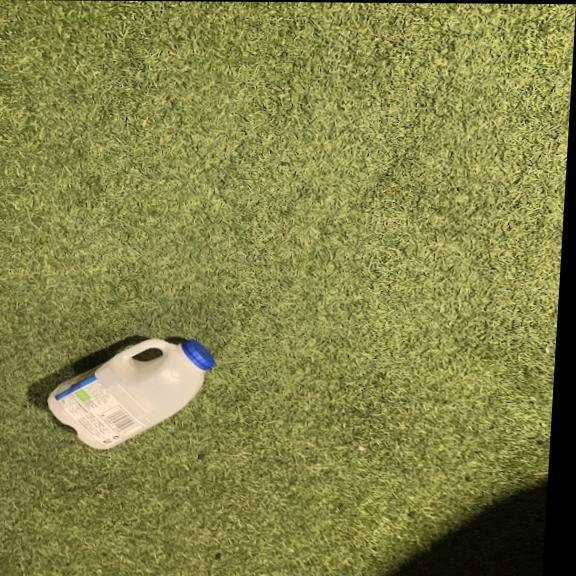Plastik: (40, 335, 218, 452)
